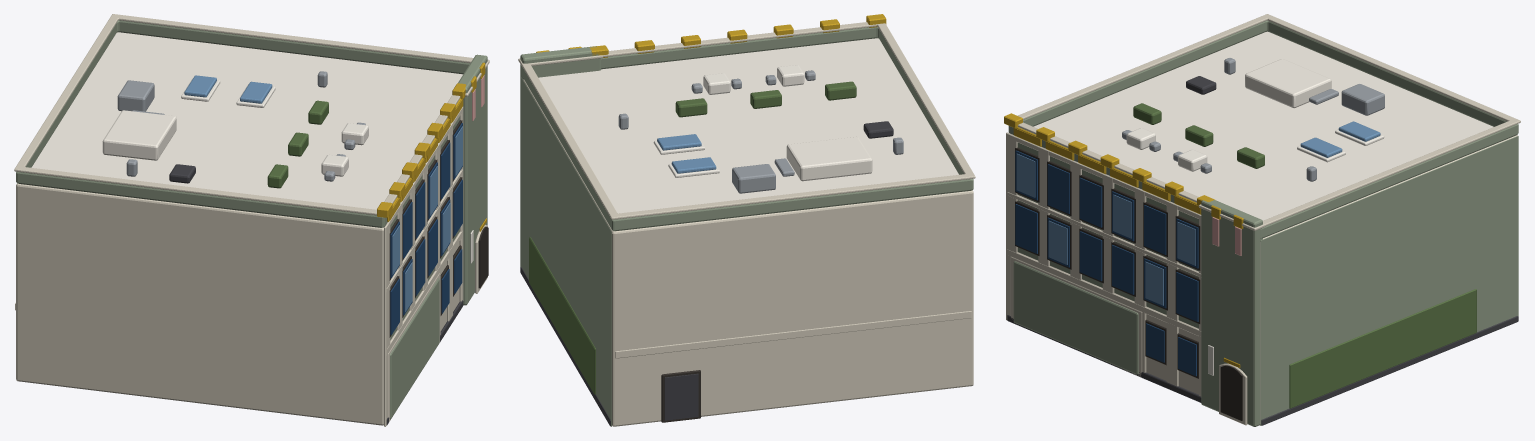
The model's file is 334-brannan.glb.
3 renders of one model, left to right at view 1: azimuth 30°, elevation 25°; view 2: azimuth 150°, elevation 25°; view 3: azimuth 270°, elevation 25°, orthographic. The views are drawn at different scales.
Parts seen in each view (by area): view 1: body, grp_Toy_sage, grp_Toy_stone, grp_Toy_glass, bulkhead, grp_Toy_ink, grp_Toy_gold, grp_Toy_steel, grp_Toy_glass_Glow, grp_Toy_trim, grp_Toy_leaf, grp_Toy_glassl (+2 smaller); view 2: body, grp_Toy_sage, grp_Toy_stone, grp_Toy_leaf, bulkhead, grp_Toy_roofd, grp_Toy_steel, grp_Toy_trim, grp_Toy_gold, grp_Toy_glassl, grp_Toy_ink; view 3: grp_Toy_sage, body, grp_Toy_stone, grp_Toy_leaf, grp_Toy_glass, grp_Toy_ink, grp_Toy_glass_Glow, grp_Toy_roofd, bulkhead, grp_Toy_gold, grp_Toy_steel, grp_Toy_trim (+2 smaller).
Boxes of the visible parts, x1=… form: body: x1=16, y1=32, x2=462, y2=425; grp_Toy_sage: x1=16, y1=20, x2=487, y2=419; grp_Toy_stone: x1=14, y1=14, x2=489, y2=426; grp_Toy_glass: x1=390, y1=123, x2=462, y2=334; bulkhead: x1=102, y1=110, x2=176, y2=160; grp_Toy_ink: x1=389, y1=120, x2=488, y2=337; grp_Toy_gold: x1=377, y1=62, x2=485, y2=221; grp_Toy_steel: x1=117, y1=71, x2=365, y2=181; grp_Toy_glass_Glow: x1=392, y1=126, x2=462, y2=312; grp_Toy_trim: x1=181, y1=77, x2=473, y2=263; grp_Toy_leaf: x1=267, y1=100, x2=328, y2=188; grp_Toy_glassl: x1=184, y1=75, x2=272, y2=103; body: x1=523, y1=38, x2=973, y2=426; grp_Toy_sage: x1=520, y1=27, x2=973, y2=426; grp_Toy_stone: x1=518, y1=22, x2=975, y2=358; grp_Toy_leaf: x1=529, y1=81, x2=856, y2=394; bulkhead: x1=786, y1=136, x2=872, y2=181; grp_Toy_roofd: x1=520, y1=121, x2=893, y2=426; grp_Toy_steel: x1=618, y1=70, x2=903, y2=193; grp_Toy_trim: x1=653, y1=65, x2=804, y2=177; grp_Toy_gold: x1=536, y1=14, x2=886, y2=57; grp_Toy_glassl: x1=657, y1=134, x2=716, y2=173; grp_Toy_ink: x1=661, y1=370, x2=700, y2=422; grp_Toy_sage: x1=1008, y1=20, x2=1518, y2=426; body: x1=1018, y1=31, x2=1517, y2=424; grp_Toy_stone: x1=1006, y1=14, x2=1520, y2=425; grp_Toy_leaf: x1=1133, y1=103, x2=1476, y2=408; grp_Toy_glass: x1=1015, y1=150, x2=1198, y2=376; grp_Toy_ink: x1=1015, y1=147, x2=1242, y2=420; grp_Toy_glass_Glow: x1=1016, y1=153, x2=1195, y2=305; grp_Toy_roofd: x1=1007, y1=76, x2=1518, y2=425; bulkhead: x1=1245, y1=59, x2=1331, y2=108; grp_Toy_gold: x1=1004, y1=113, x2=1243, y2=229; grp_Toy_steel: x1=1122, y1=58, x2=1384, y2=181; grp_Toy_trim: x1=1126, y1=128, x2=1384, y2=375.
Bounding box in the file's own units: 30.18 × 13.4 × 30.65.
